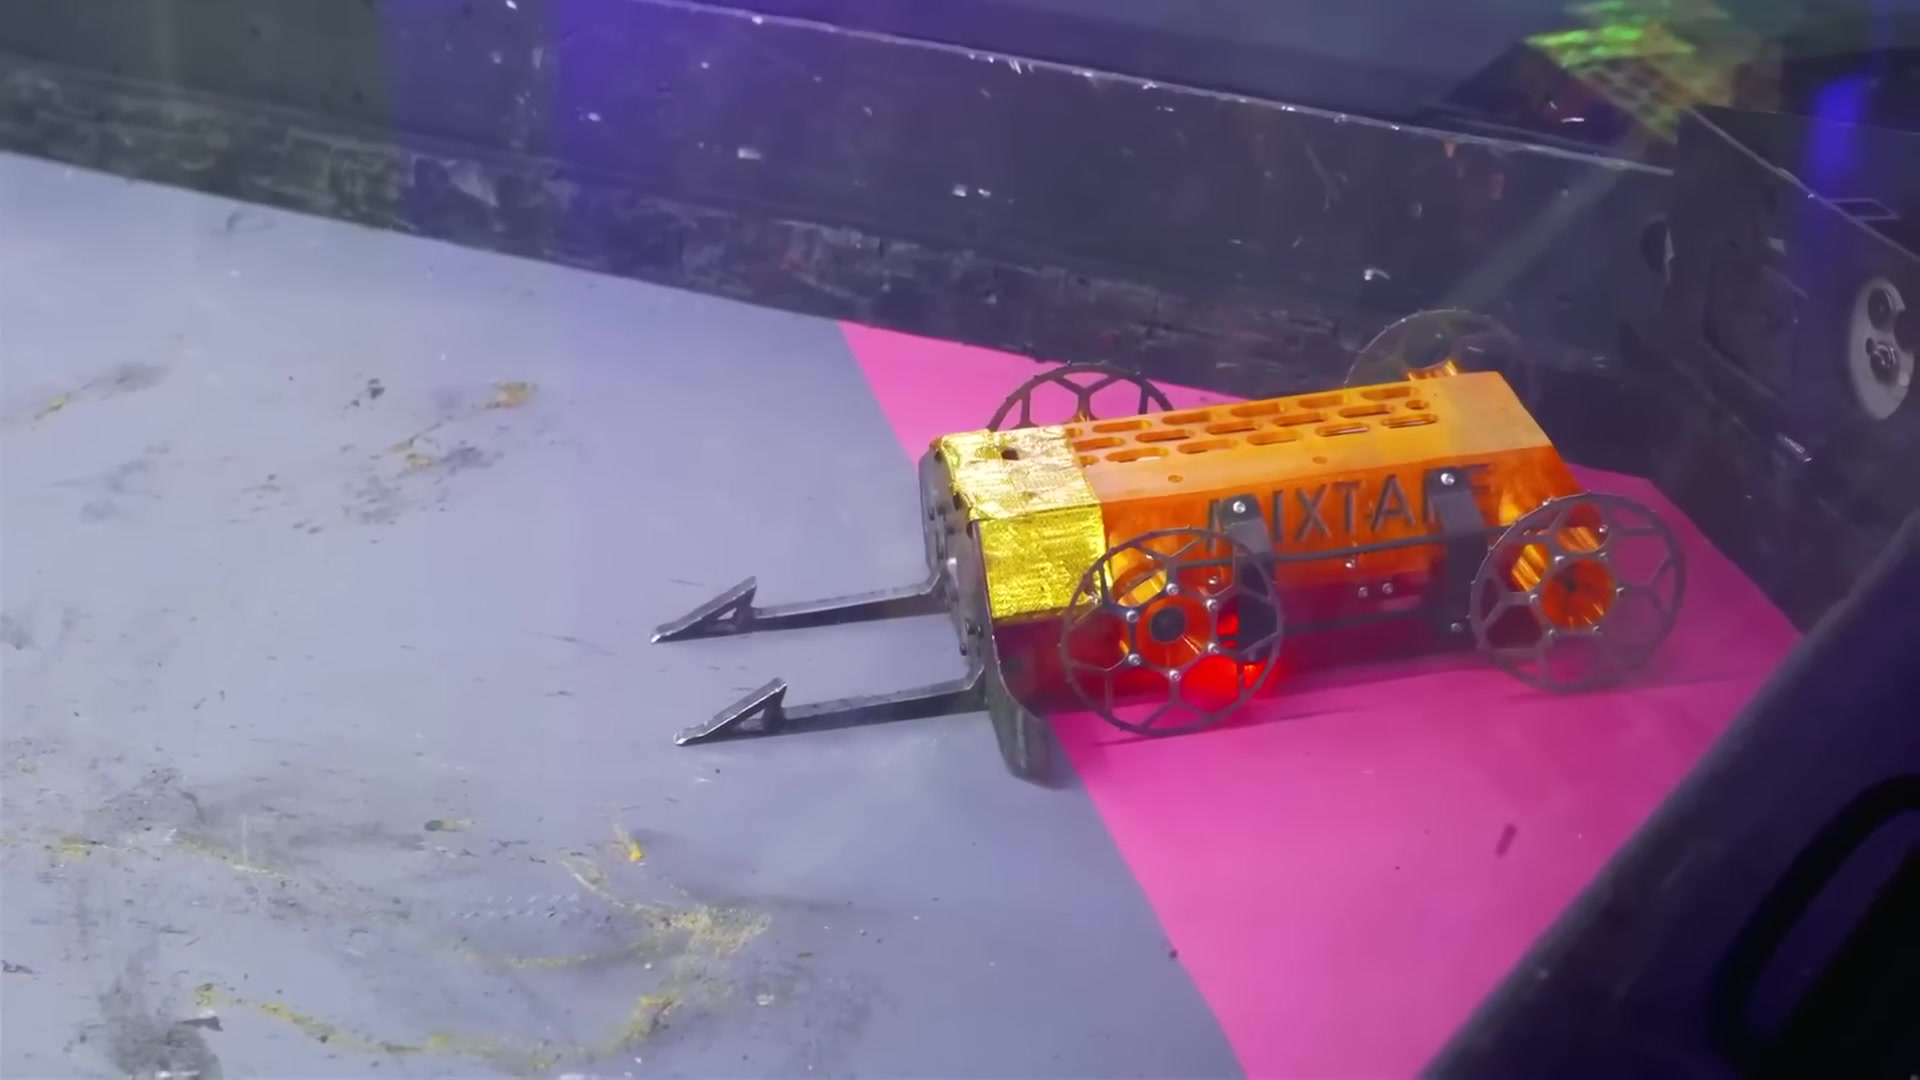combatbot: (647, 310, 1683, 782)
